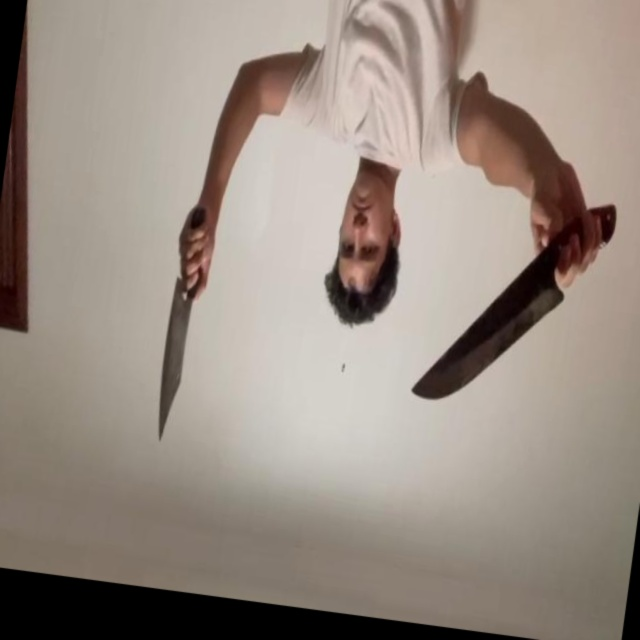Sharp-Object: (410, 270, 565, 419), (151, 281, 196, 447)
